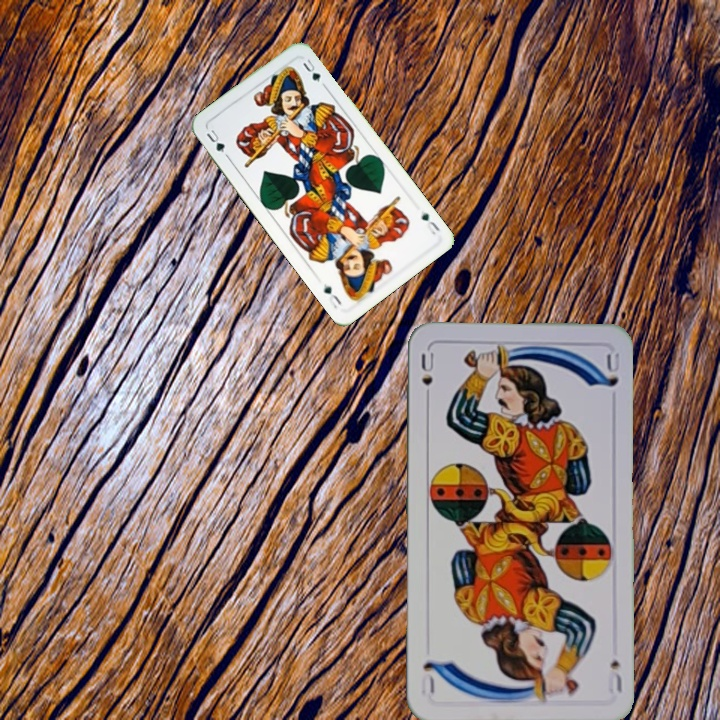GU: (416, 206, 443, 237), (202, 125, 228, 155)
SU: (417, 349, 436, 406), (604, 655, 625, 695)
